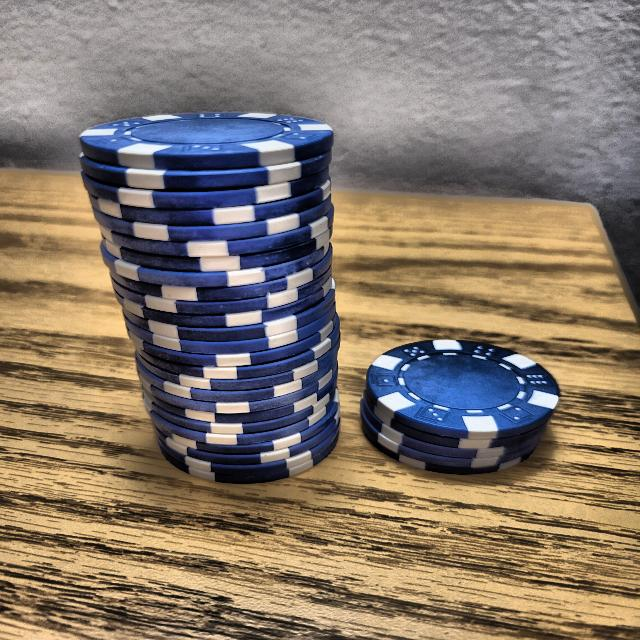Chip: (51, 94, 380, 503), (344, 325, 570, 484)
